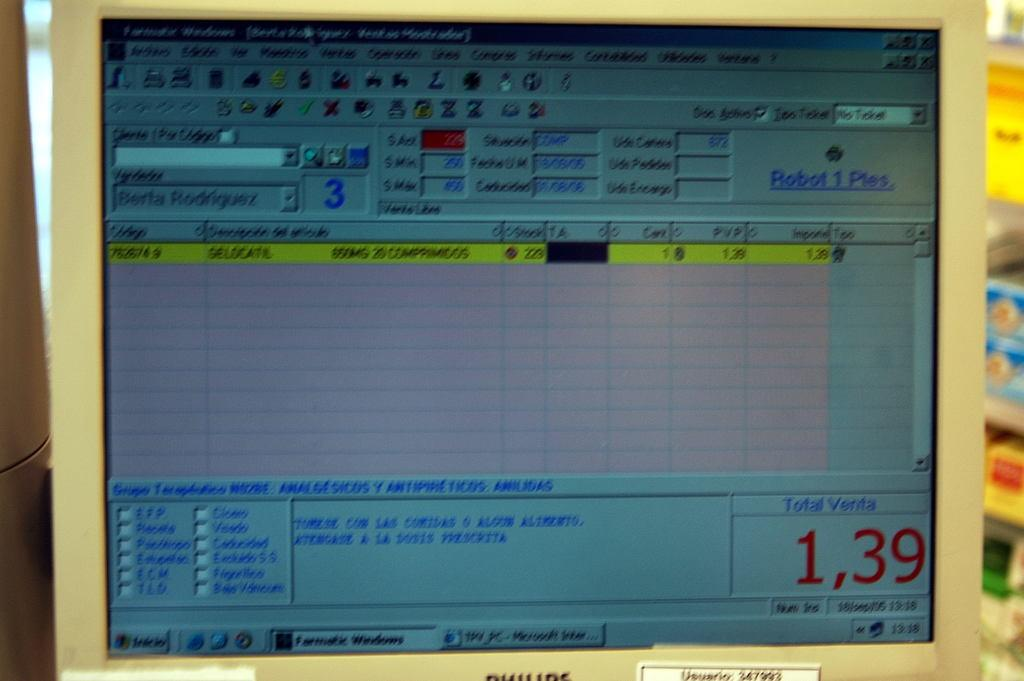Computer-monitor: (60, 0, 1012, 673)
